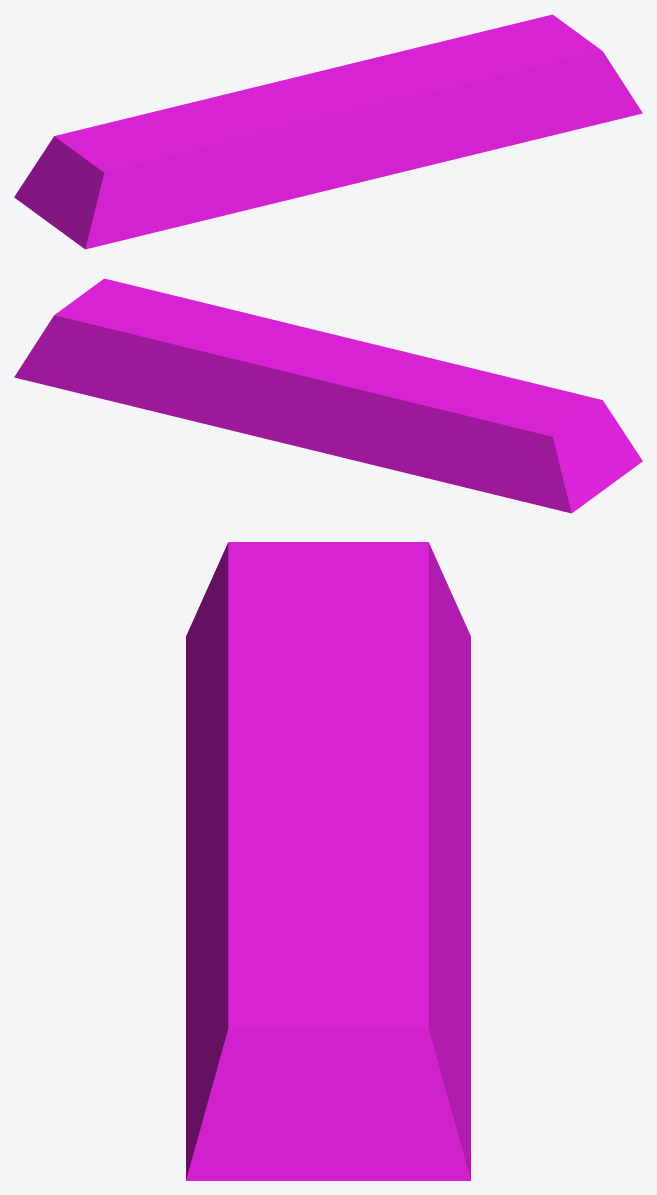
File: lamp_new.FBX
3 views of the same model, one above another, from view 1: azimuth 30°, elevation 25°; view 2: azimuth 150°, elevation 25°; view 3: azimuth 270°, elevation 25° (orthographic). The views are drawn at different scales.
Parts seen in each view (by area): view 1: lamp_02; view 2: lamp_02; view 3: lamp_02.
Boxes of the visible parts, left/top/right/bottom form: lamp_02: left=14, top=14, right=642, bottom=249; lamp_02: left=14, top=278, right=642, bottom=513; lamp_02: left=186, top=542, right=470, bottom=1180.
Size of the model in its own units: 139 by 30.68 by 14.66.
